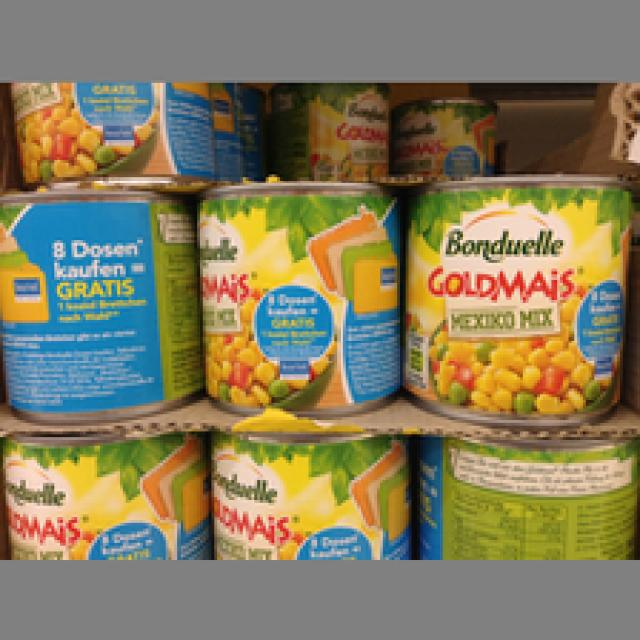groceries: (397, 171, 629, 426), (194, 180, 400, 411), (0, 185, 194, 417), (412, 432, 634, 557), (209, 423, 414, 557), (3, 428, 211, 552), (6, 80, 223, 177), (388, 89, 488, 174)
